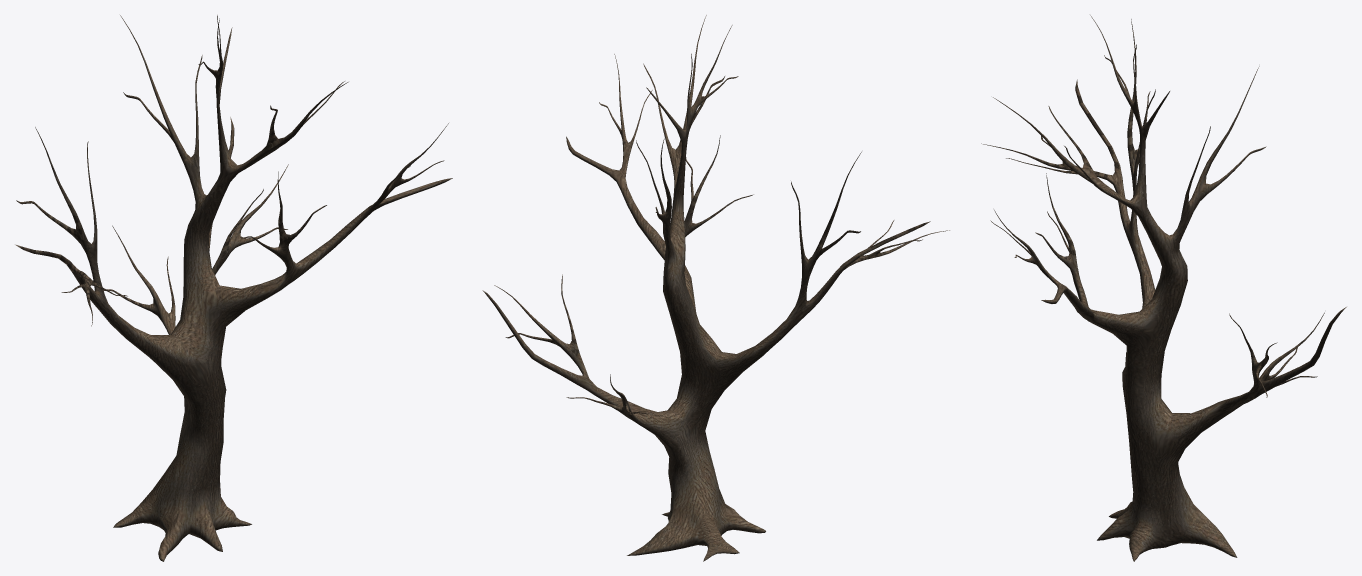
Rendered from Old_Tree.fbx.
3 views of the same model, side by side, from view 1: azimuth 30°, elevation 25°; view 2: azimuth 150°, elevation 25°; view 3: azimuth 270°, elevation 25° (orthographic). The views are drawn at different scales.
Parts seen in each view (by area): view 1: Tree_High_LOD0; view 2: Tree_High_LOD0; view 3: Tree_High_LOD0.
Part boxes in pixels (x1,y1,x2,y2): Tree_High_LOD0: (15,15,452,561); Tree_High_LOD0: (482,15,949,561); Tree_High_LOD0: (981,15,1346,561).
Size of the model in its own units: 234 by 288 by 182.
1 material, 1 textured.
